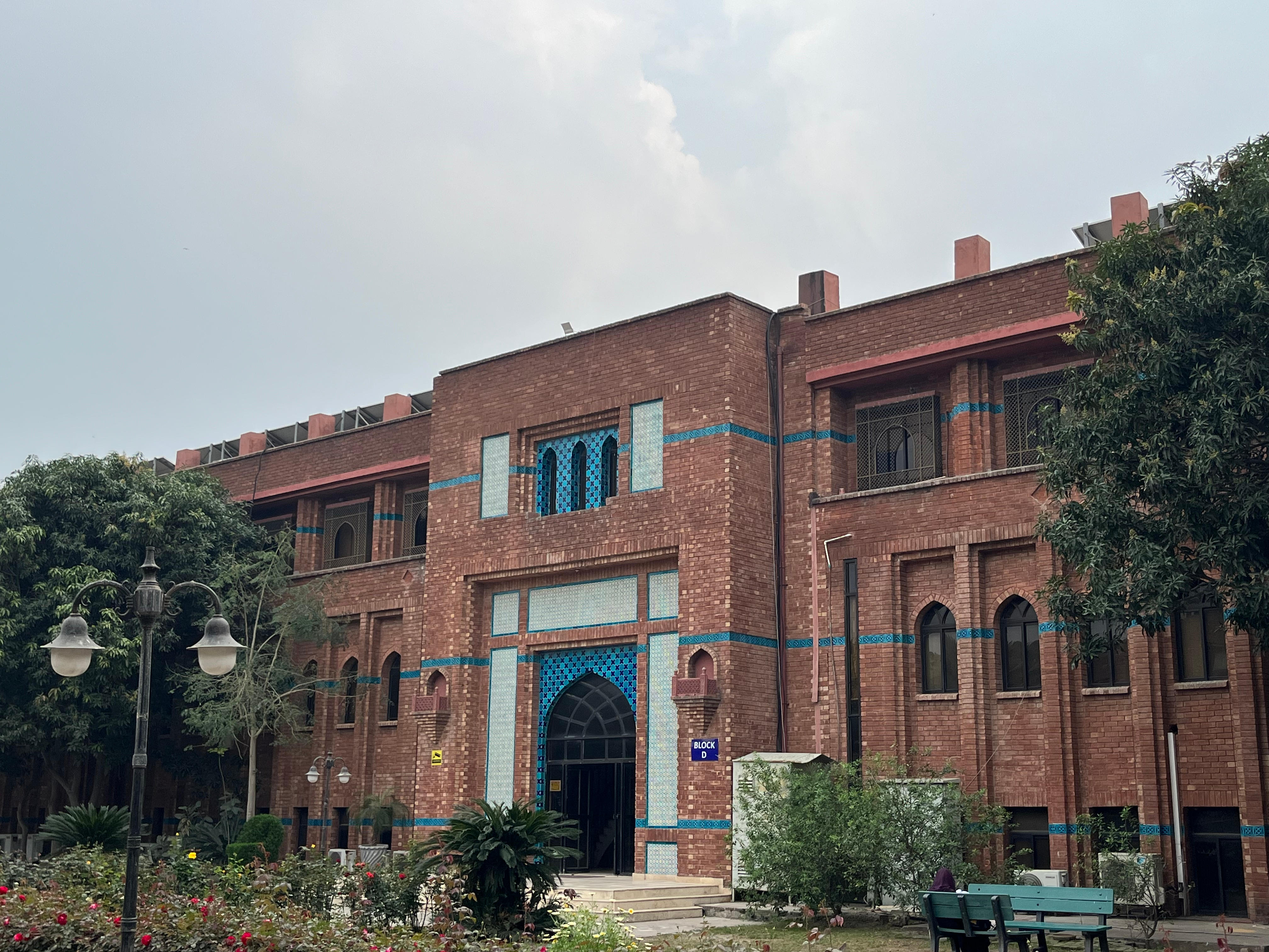Block D: (3, 236, 1269, 920)
